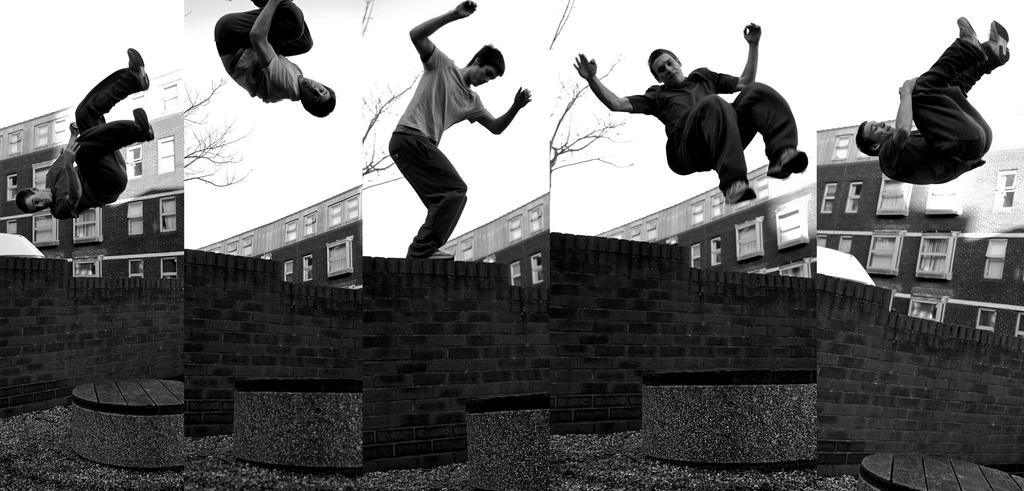Human_hand: (570, 51, 598, 81), (742, 22, 762, 46), (63, 139, 81, 165), (513, 85, 532, 109), (899, 77, 916, 94), (458, 1, 477, 16), (68, 121, 81, 137)
